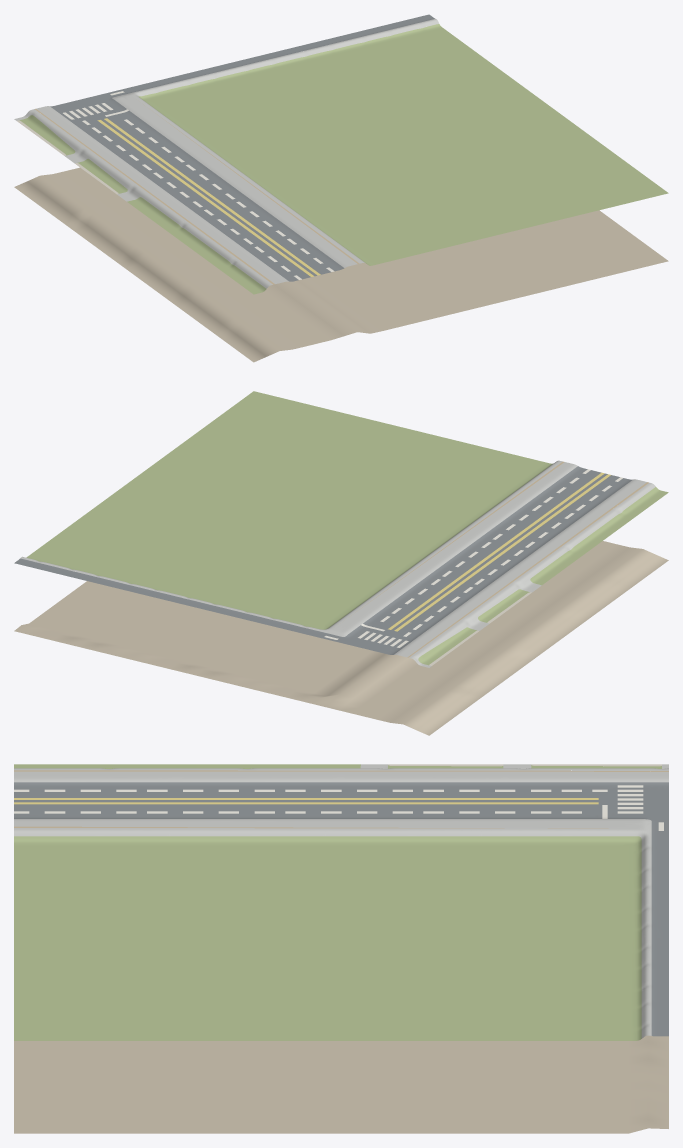
3 views of the same model, one above another, from view 1: azimuth 30°, elevation 25°; view 2: azimuth 150°, elevation 25°; view 3: azimuth 270°, elevation 25° (orthographic). The views are drawn at different scales.
Visible parts, largest first — view 1: s_-11_4__grass, s_-11_4__soil, s_-11_4__asphalt, s_-11_4__stone_paving, s_-11_4__yellow_marking, s_-11_4__white_marking, s_-11_4__timber_deck; view 2: s_-11_4__grass, s_-11_4__soil, s_-11_4__asphalt, s_-11_4__stone_paving, s_-11_4__yellow_marking, s_-11_4__white_marking, s_-11_4__timber_deck; view 3: s_-11_4__grass, s_-11_4__soil, s_-11_4__asphalt, s_-11_4__stone_paving, s_-11_4__yellow_marking, s_-11_4__white_marking, s_-11_4__timber_deck, s_-11_4__paving.
Boxes of the visible parts, box(x1,y1,x2,y2) form: s_-11_4__grass: box(19, 24, 668, 294); s_-11_4__soil: box(14, 167, 668, 362); s_-11_4__asphalt: box(50, 14, 434, 281); s_-11_4__stone_paving: box(14, 19, 438, 288); s_-11_4__yellow_marking: box(97, 118, 320, 276); s_-11_4__white_marking: box(63, 91, 334, 279); s_-11_4__timber_deck: box(35, 104, 359, 284); s_-11_4__grass: box(26, 391, 668, 665); s_-11_4__soil: box(14, 541, 668, 735); s_-11_4__asphalt: box(14, 466, 632, 654); s_-11_4__stone_paving: box(20, 460, 655, 667); s_-11_4__yellow_marking: box(388, 472, 610, 631); s_-11_4__white_marking: box(324, 469, 622, 647); s_-11_4__timber_deck: box(351, 461, 648, 657); s_-11_4__grass: box(14, 764, 661, 1040); s_-11_4__soil: box(14, 1035, 668, 1133); s_-11_4__asphalt: box(14, 782, 668, 1036); s_-11_4__stone_paving: box(14, 764, 668, 1038); s_-11_4__yellow_marking: box(14, 798, 598, 804); s_-11_4__white_marking: box(14, 785, 663, 830); s_-11_4__timber_deck: box(14, 770, 668, 828); s_-11_4__paving: box(388, 764, 661, 766).
Bounding box in the file's own units: 128 × 21.51 × 128.
